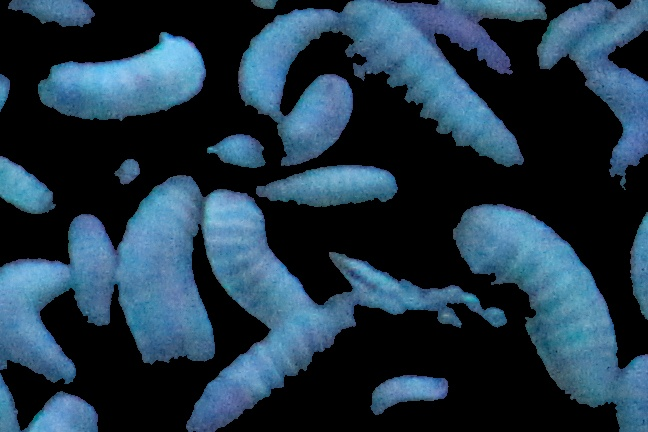larvae: (448, 204, 624, 418), (341, 1, 536, 184), (117, 173, 229, 380), (185, 293, 353, 430), (203, 186, 313, 334), (36, 34, 208, 120), (212, 79, 351, 170), (1, 260, 93, 392), (239, 8, 336, 120), (582, 67, 648, 177), (249, 167, 403, 213), (62, 210, 112, 339), (1, 127, 65, 218), (567, 1, 644, 75), (356, 373, 456, 429), (534, 6, 616, 72), (431, 1, 553, 30), (1, 1, 101, 29)
